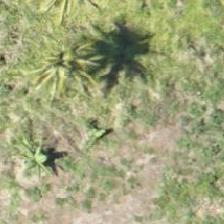Kelapa_Sawit: (17, 19, 107, 109)
